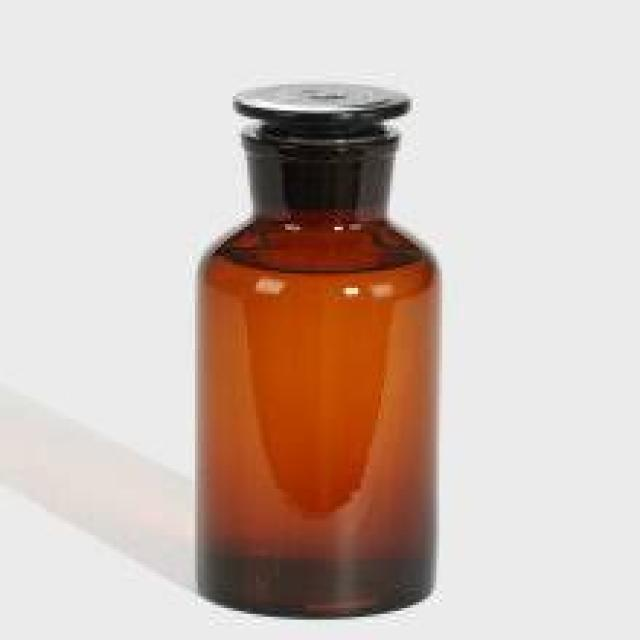Glass: (196, 146, 439, 622)
